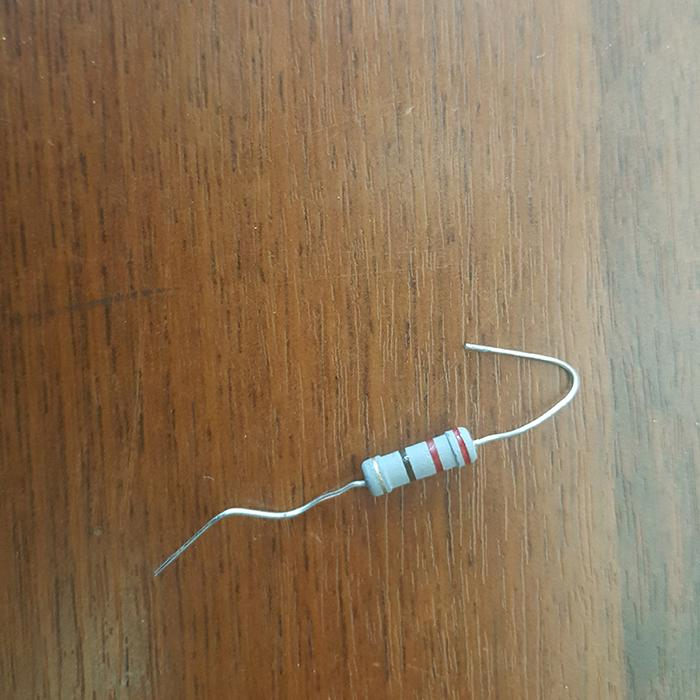resistor: (360, 423, 479, 497)
